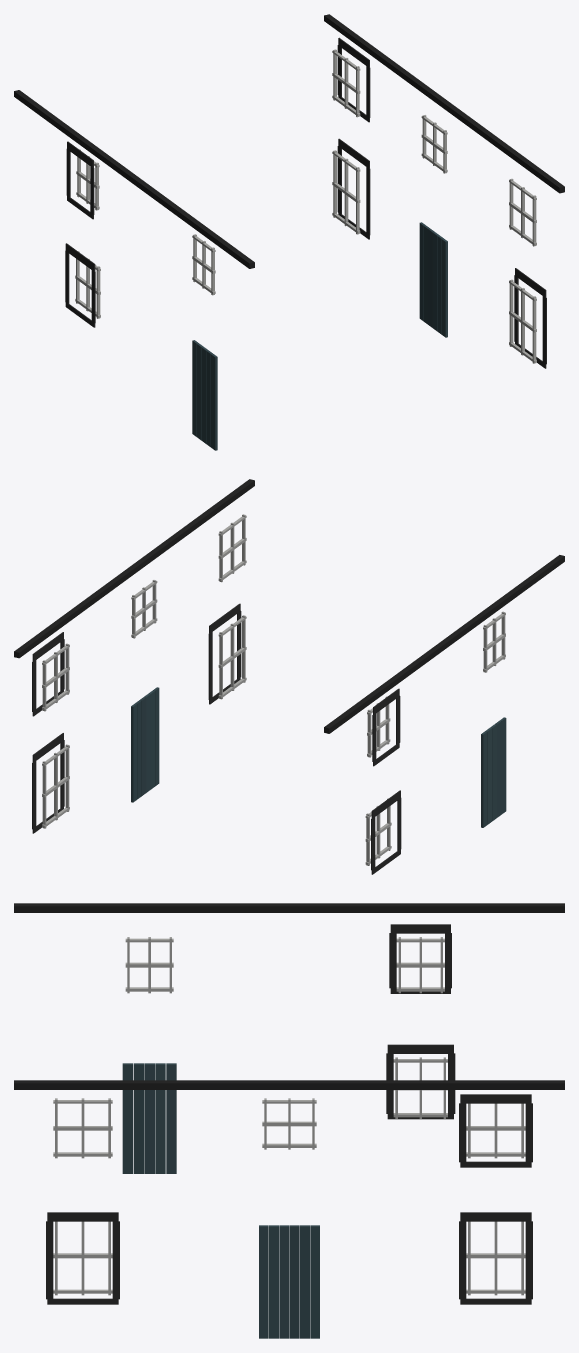
File: SM_Bld_016_Wood.glb
3 renders of one model, top to bottom at view 1: azimuth 30°, elevation 25°; view 2: azimuth 150°, elevation 25°; view 3: azimuth 270°, elevation 25°, orthographic. The views are drawn at different scales.
Parts seen in each view (by area): view 1: SM_Bld_016_Wood; view 2: SM_Bld_016_Wood; view 3: SM_Bld_016_Wood.
Boxes of the visible parts, x1=… form: SM_Bld_016_Wood: x1=14, y1=14, x2=564, y2=450; SM_Bld_016_Wood: x1=14, y1=479, x2=564, y2=874; SM_Bld_016_Wood: x1=14, y1=903, x2=564, y2=1338.
Bounding box in the file's own units: 7.07 × 4.8 × 9.14.
